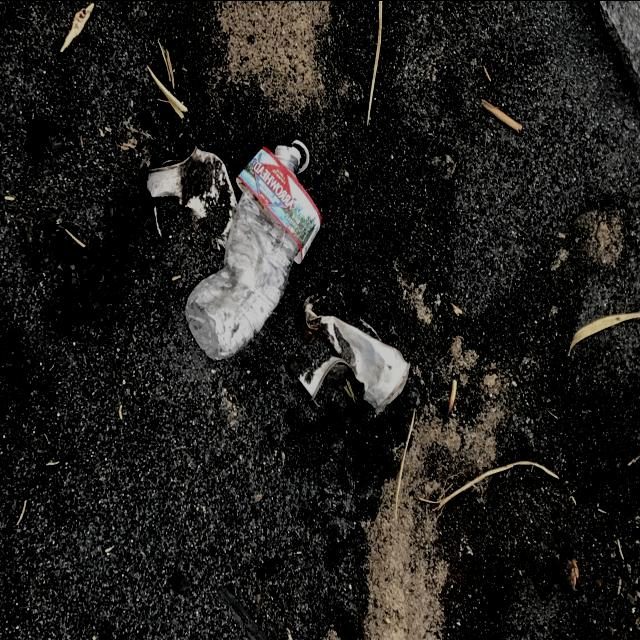Clear plastic bottle: (185, 145, 322, 360)
Drink can: (298, 292, 410, 413), (146, 146, 238, 249)
Other plastic bottle: (292, 139, 309, 175)
